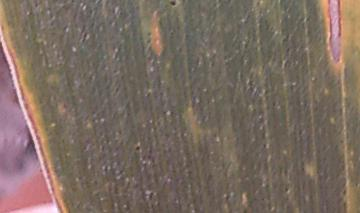tarspot: (341, 199, 349, 213), (340, 187, 349, 197), (167, 1, 177, 8), (240, 206, 249, 213), (134, 144, 141, 152), (283, 186, 290, 194), (145, 38, 152, 45), (270, 100, 276, 108), (145, 30, 152, 36)
